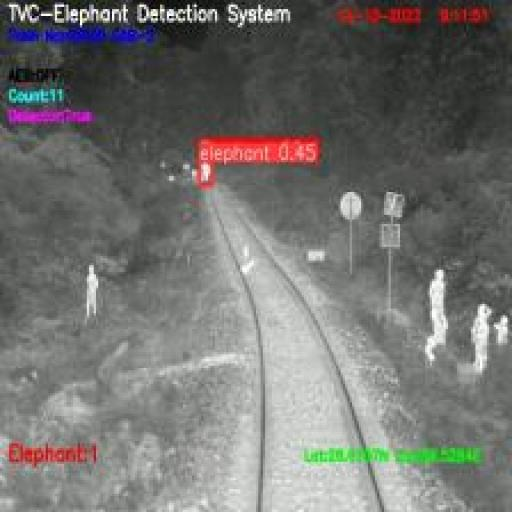Elephant: (199, 160, 211, 184)
